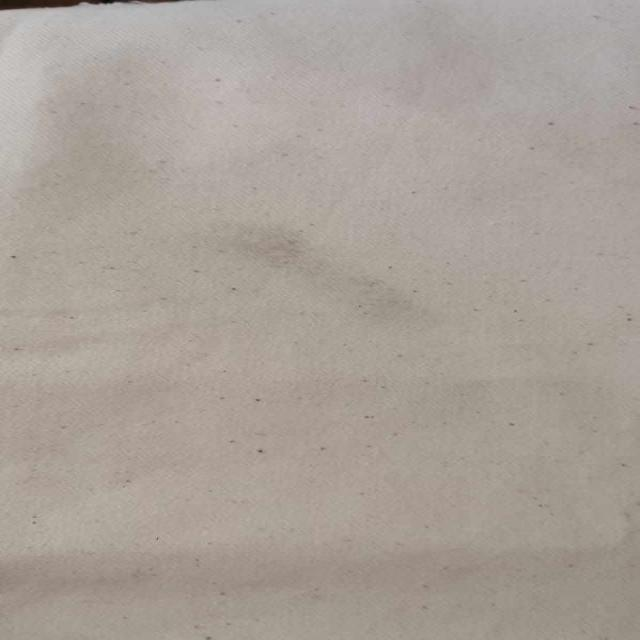taaaches: (203, 208, 442, 330)
